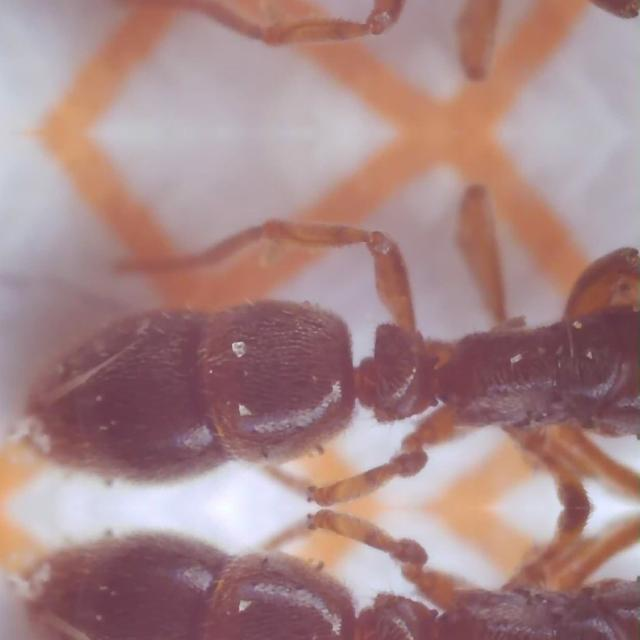Ponera: (2, 168, 640, 506), (1, 508, 638, 640), (1, 0, 638, 96)
